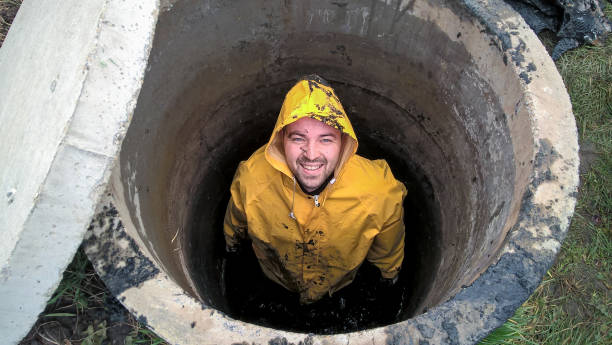open_manhole: (124, 12, 524, 310)
